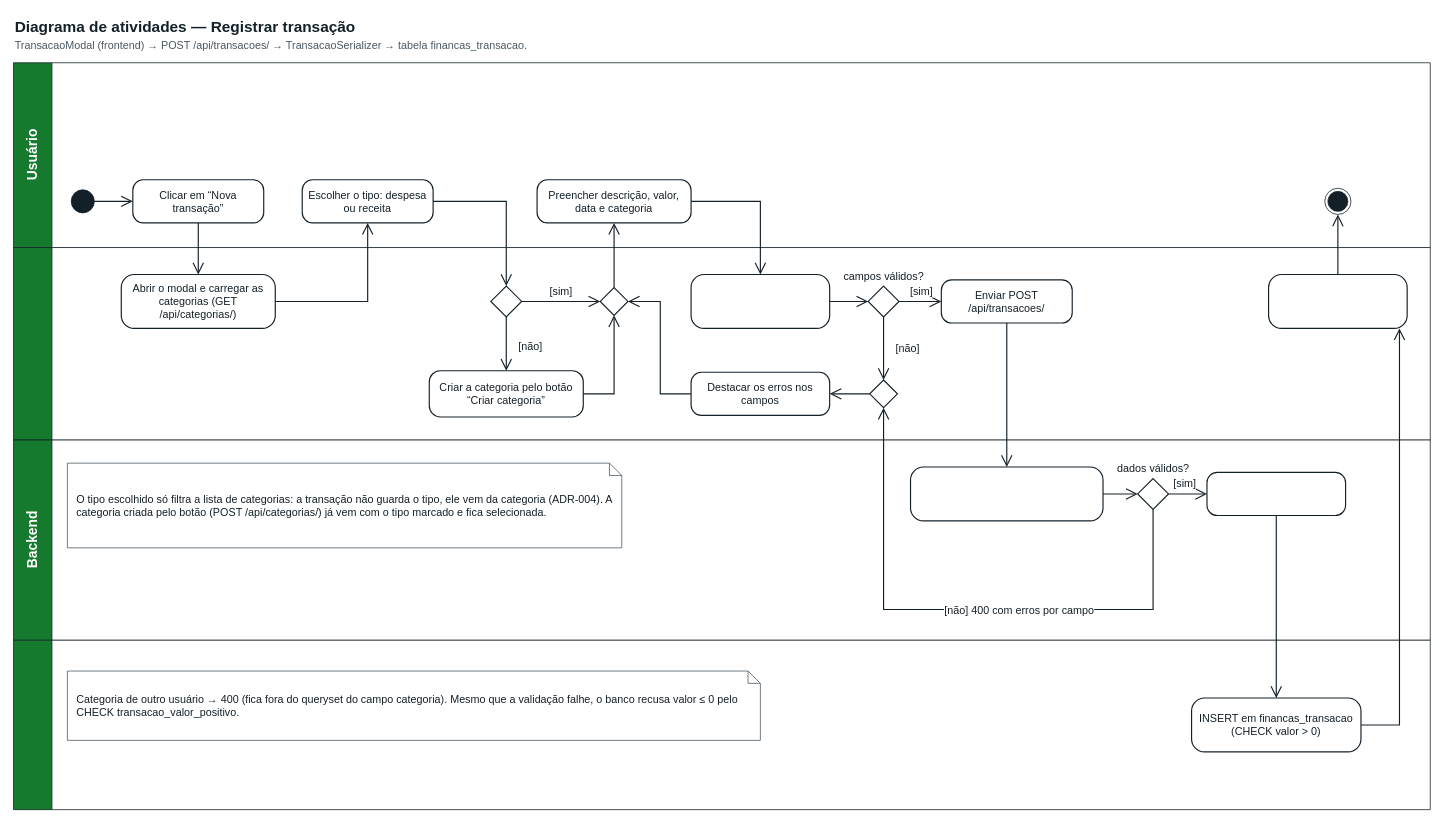
The diagram is 1444 pixels wide and 823 high, and some of its shapes have lost their labels. The box of each missing label's shape, as (x1, y1, x2, y2) in pixels:
Banco de dados: (13, 639, 1430, 810)
existe categoria do tipo?: (490, 285, 522, 317)
Fechar o modal e atualizar painel e listas: (1268, 274, 1407, 329)
Frontend: (13, 247, 1430, 440)
serializer.save(): salvar a transação: (1206, 471, 1346, 516)
Validar no navegador: obrigatórios, valor > 0, data: (690, 274, 830, 329)
Validar no TransacaoSerializer: valor > 0 e categoria do usuário: (910, 466, 1103, 521)
